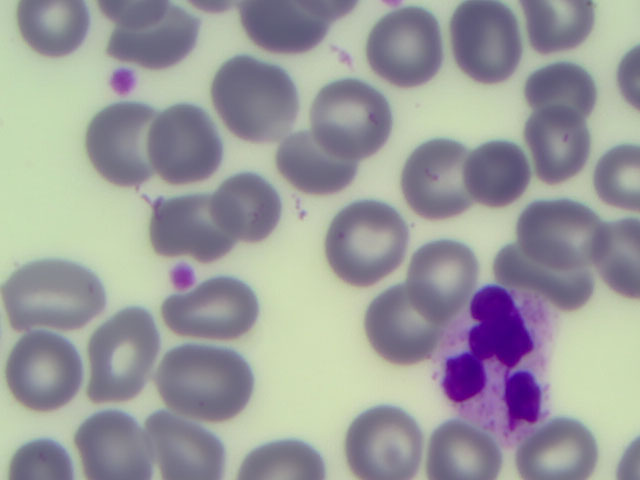Platelets: (170, 266, 197, 290), (115, 69, 136, 91)
RBC: (156, 342, 261, 417), (519, 201, 611, 270), (213, 62, 294, 138), (91, 102, 168, 181), (369, 10, 446, 88), (329, 206, 405, 281), (317, 83, 394, 156), (407, 137, 472, 219), (152, 108, 224, 182), (8, 261, 94, 321), (9, 332, 76, 409), (457, 2, 522, 80), (94, 317, 154, 400), (154, 199, 239, 257), (351, 410, 419, 480), (367, 291, 433, 362), (149, 411, 216, 480), (278, 133, 354, 193), (74, 418, 146, 480), (166, 293, 257, 340), (529, 107, 586, 182), (409, 243, 467, 316), (108, 13, 200, 59), (508, 1, 593, 47), (497, 243, 590, 285), (466, 145, 529, 204), (13, 1, 86, 51), (592, 218, 640, 293), (529, 70, 599, 121), (239, 4, 324, 45), (213, 178, 274, 234), (245, 439, 327, 480), (433, 426, 489, 480), (534, 429, 594, 477), (601, 149, 640, 207), (11, 446, 68, 480), (97, 1, 169, 24), (623, 56, 640, 103)
WBC: (445, 298, 554, 442)
